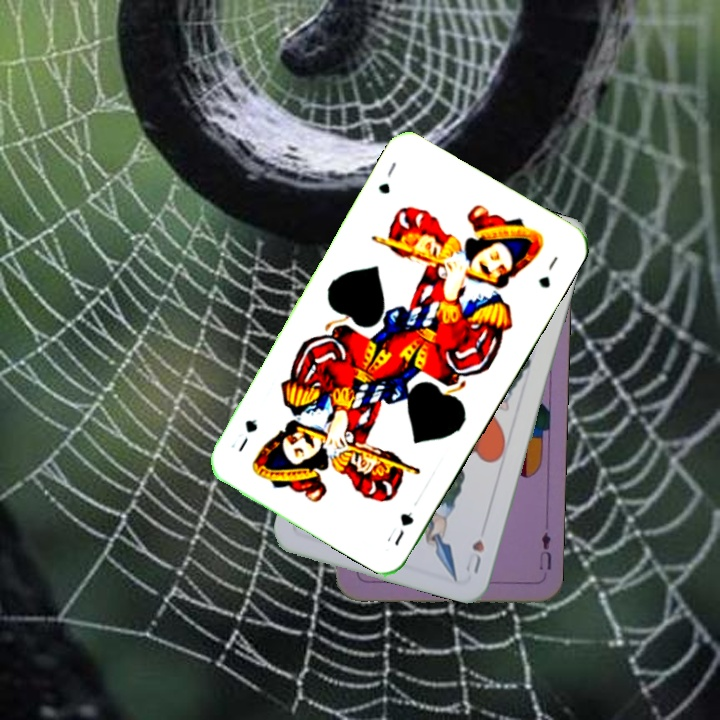EU: (535, 528, 554, 572)
GU: (390, 508, 417, 549), (374, 157, 399, 197)
HU: (462, 535, 487, 577)
